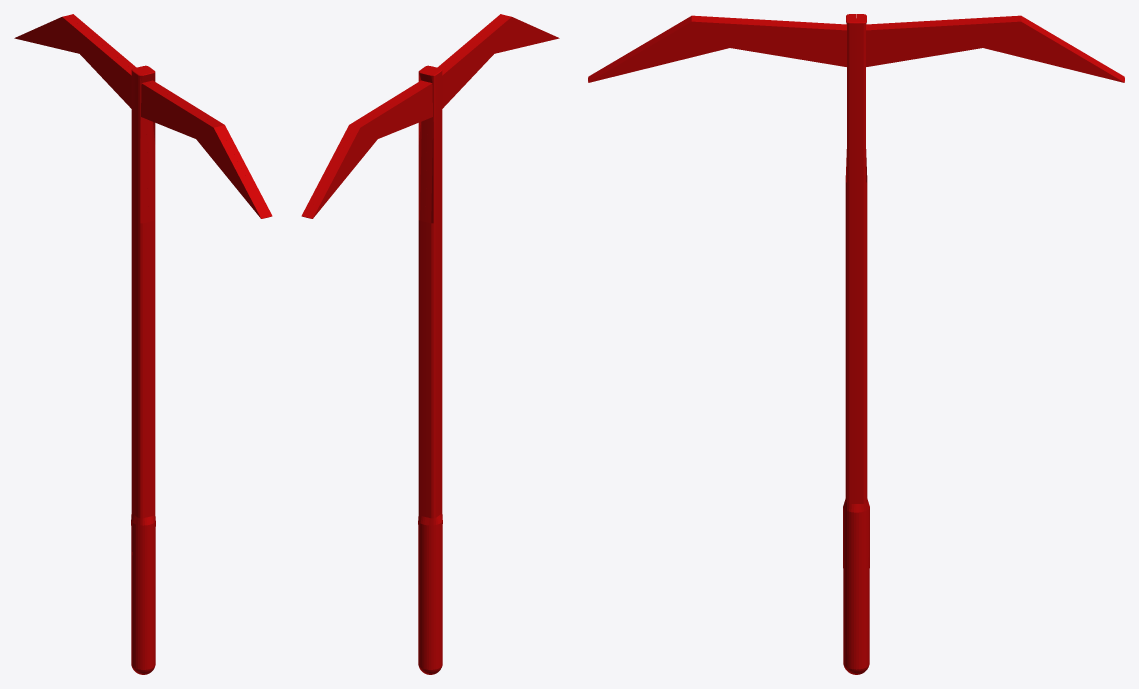
Rendered from pickaxe.obj.
3 views of the same model, side by side, from view 1: azimuth 30°, elevation 25°; view 2: azimuth 150°, elevation 25°; view 3: azimuth 270°, elevation 25° (orthographic). The views are drawn at different scales.
Parts seen in each view (by area): view 1: pickaxe; view 2: pickaxe; view 3: pickaxe.
Boxes of the visible parts, x1,y1,x2,y2 form: pickaxe: (14,14,272,674); pickaxe: (301,14,559,674); pickaxe: (588,14,1124,674).
Bounding box in the file's own units: 0.0784 × 2.11 × 1.57.
